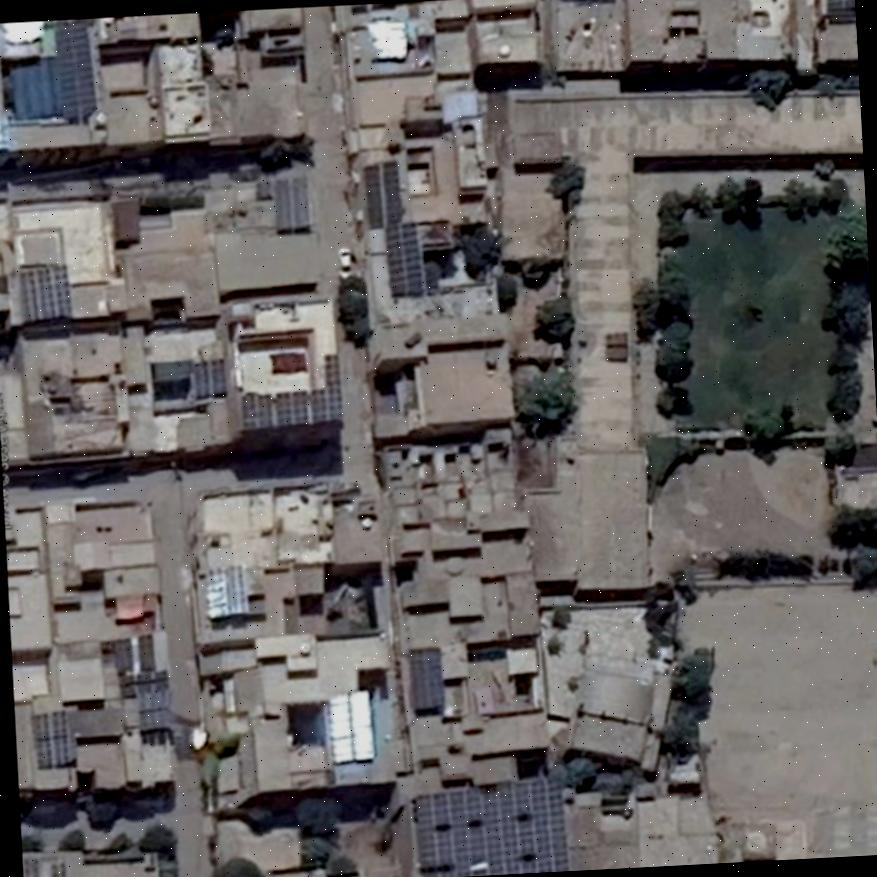Solarpanel: (412, 777, 569, 877), (242, 352, 342, 431), (55, 27, 93, 113), (328, 692, 374, 759), (383, 222, 421, 296), (21, 267, 72, 322), (362, 159, 399, 227), (30, 712, 71, 766), (410, 648, 442, 710), (273, 175, 310, 228), (222, 566, 246, 612), (829, 0, 854, 12)
